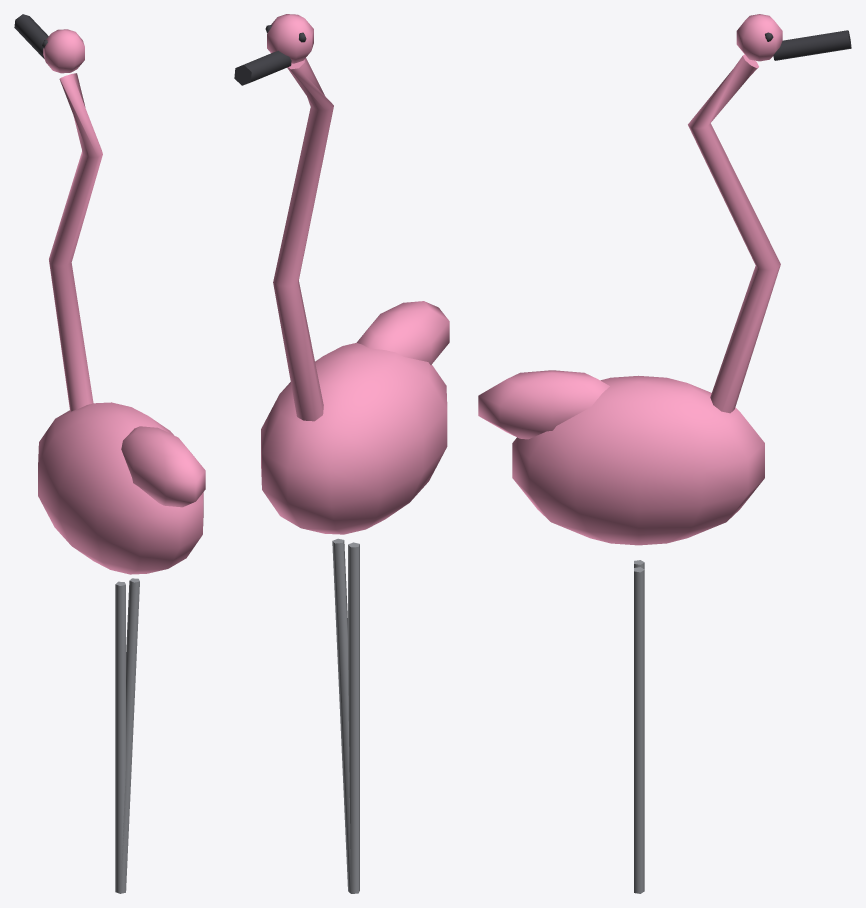
Rendered from flamingo.glb.
3 renders of one model, left to right at view 1: azimuth 30°, elevation 25°; view 2: azimuth 150°, elevation 25°; view 3: azimuth 270°, elevation 25°, orthographic. The views are drawn at different scales.
Parts seen in each view (by area): view 1: flamingo; view 2: flamingo; view 3: flamingo.
Boxes of the visible parts, bbox=[...] form: flamingo: bbox=[14, 14, 205, 893]; flamingo: bbox=[234, 14, 449, 893]; flamingo: bbox=[478, 14, 851, 893].
Size of the model in its own units: 0.1755 by 1.12 by 0.432.
